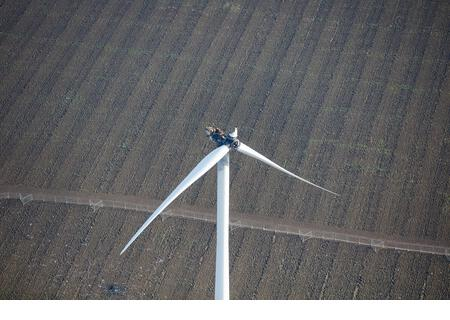faulty: (149, 119, 343, 201)
